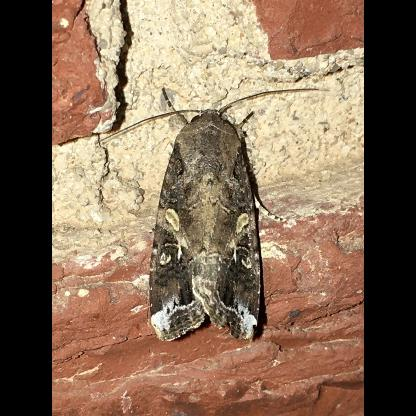Fall Armyworm Moth: (92, 84, 322, 344)
